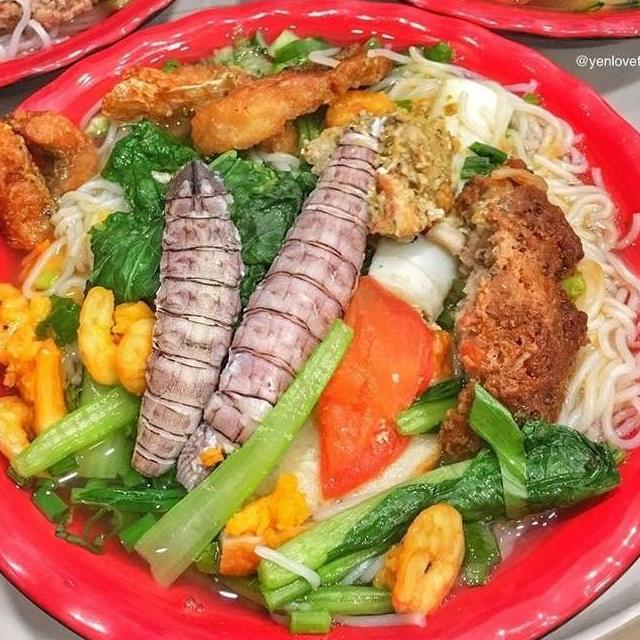bun: (507, 95, 640, 255), (549, 240, 640, 459), (19, 173, 139, 308)
bun hai san: (0, 28, 640, 640)
ca: (184, 39, 399, 158), (0, 112, 64, 259), (0, 108, 105, 197)
tom: (71, 282, 169, 398), (381, 499, 471, 624), (0, 390, 67, 485)
tom tit: (171, 103, 397, 502), (126, 155, 252, 479)
